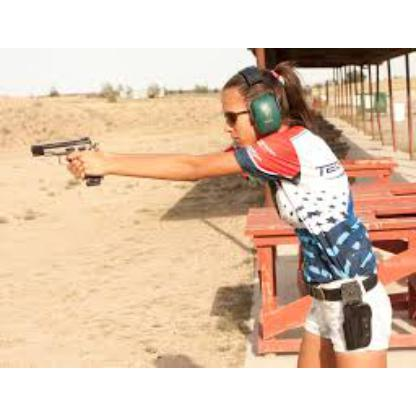gun: (28, 130, 108, 186)
